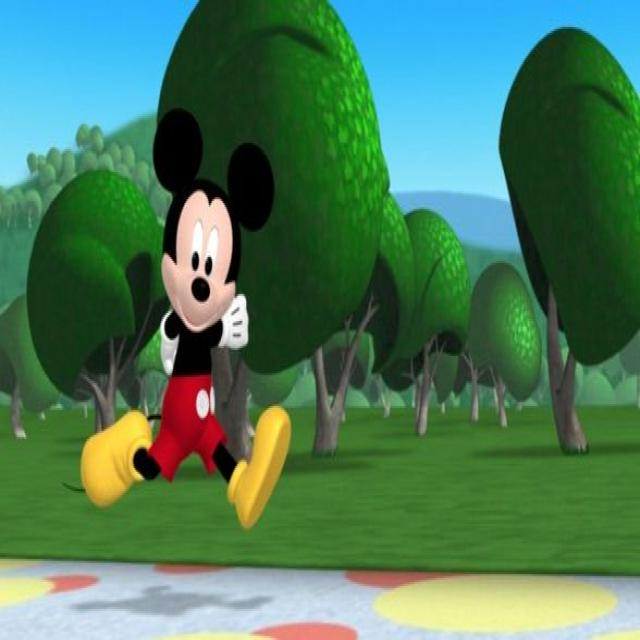mickey: (92, 109, 298, 531)
